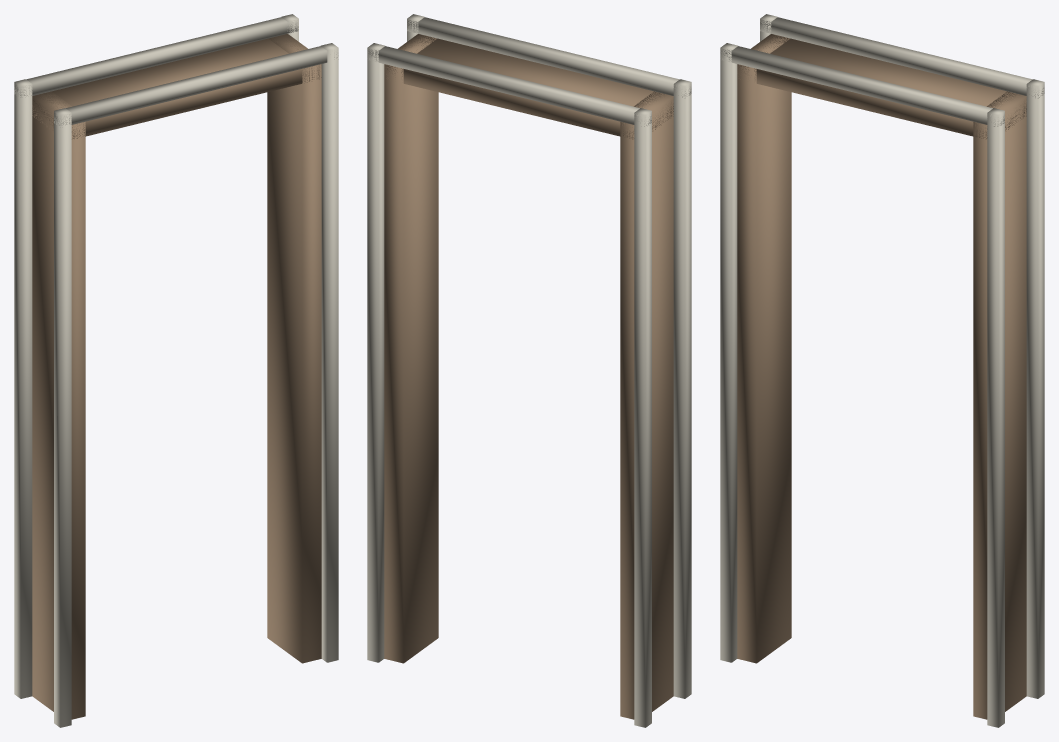
The model's file is doorway_painted_trim_w86_h220_d24.glb.
3 renders of one model, left to right at view 1: azimuth 30°, elevation 25°; view 2: azimuth 150°, elevation 25°; view 3: azimuth 330°, elevation 25°, orthographic.
Parts seen in each view (by area): view 1: world; view 2: world; view 3: world.
Part boxes in pixels (<box>): world: <box>14,14,338,727</box>; world: <box>367,14,691,727</box>; world: <box>720,14,1044,727</box>.
Size of the model in its own units: 1.1 by 2.32 by 0.3165.
